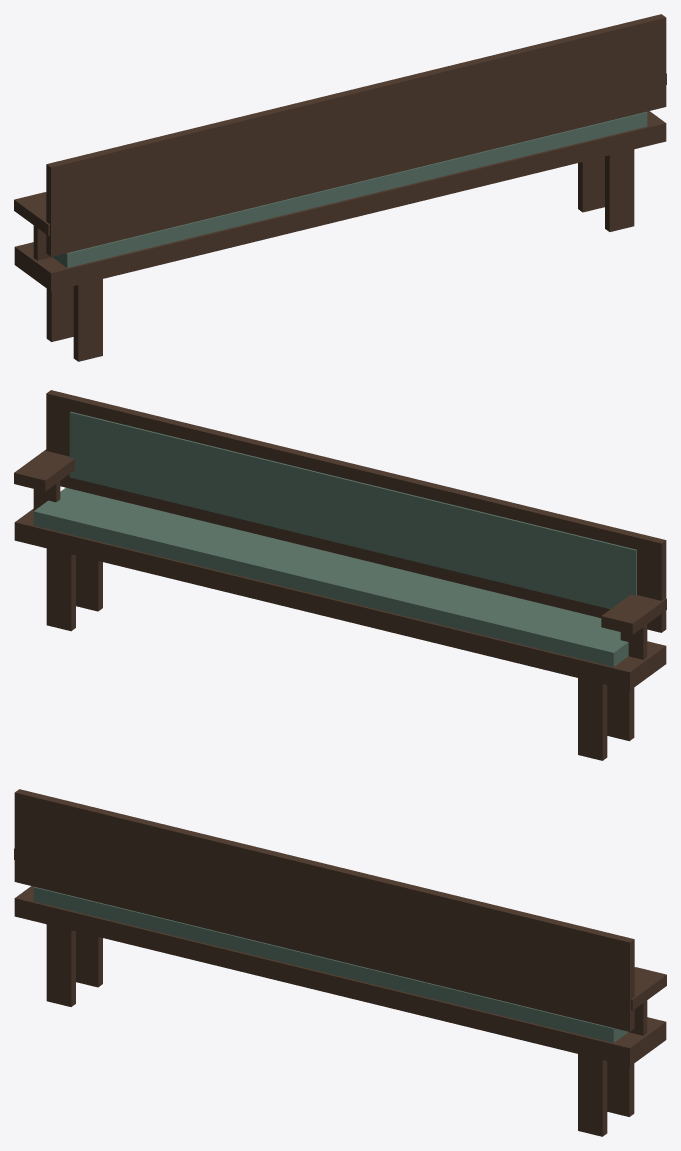
Rendered from LP_Central_BenchNW.fbx.
3 renders of one model, top to bottom at view 1: azimuth 30°, elevation 25°; view 2: azimuth 150°, elevation 25°; view 3: azimuth 330°, elevation 25°, orthographic.
Parts seen in each view (by area): view 1: Walnut, SageUpholstery; view 2: SageUpholstery, Walnut; view 3: Walnut, SageUpholstery.
Boxes of the visible parts, x1,y1,x2,y2 form: Walnut: (14, 14, 666, 361); SageUpholstery: (52, 111, 647, 267); SageUpholstery: (33, 412, 636, 666); Walnut: (14, 390, 666, 760); Walnut: (14, 789, 666, 1136); SageUpholstery: (33, 886, 628, 1042).
Bounding box in the file's own units: 319 × 100 × 32.4.
